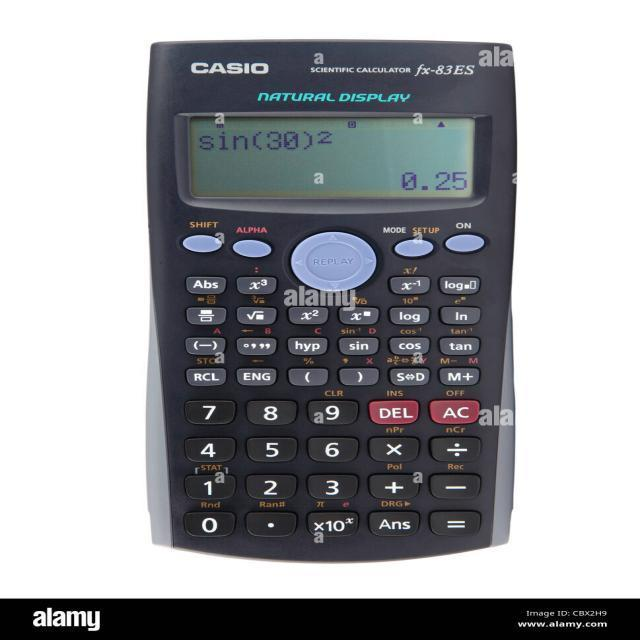Calculator: (136, 33, 525, 564)
